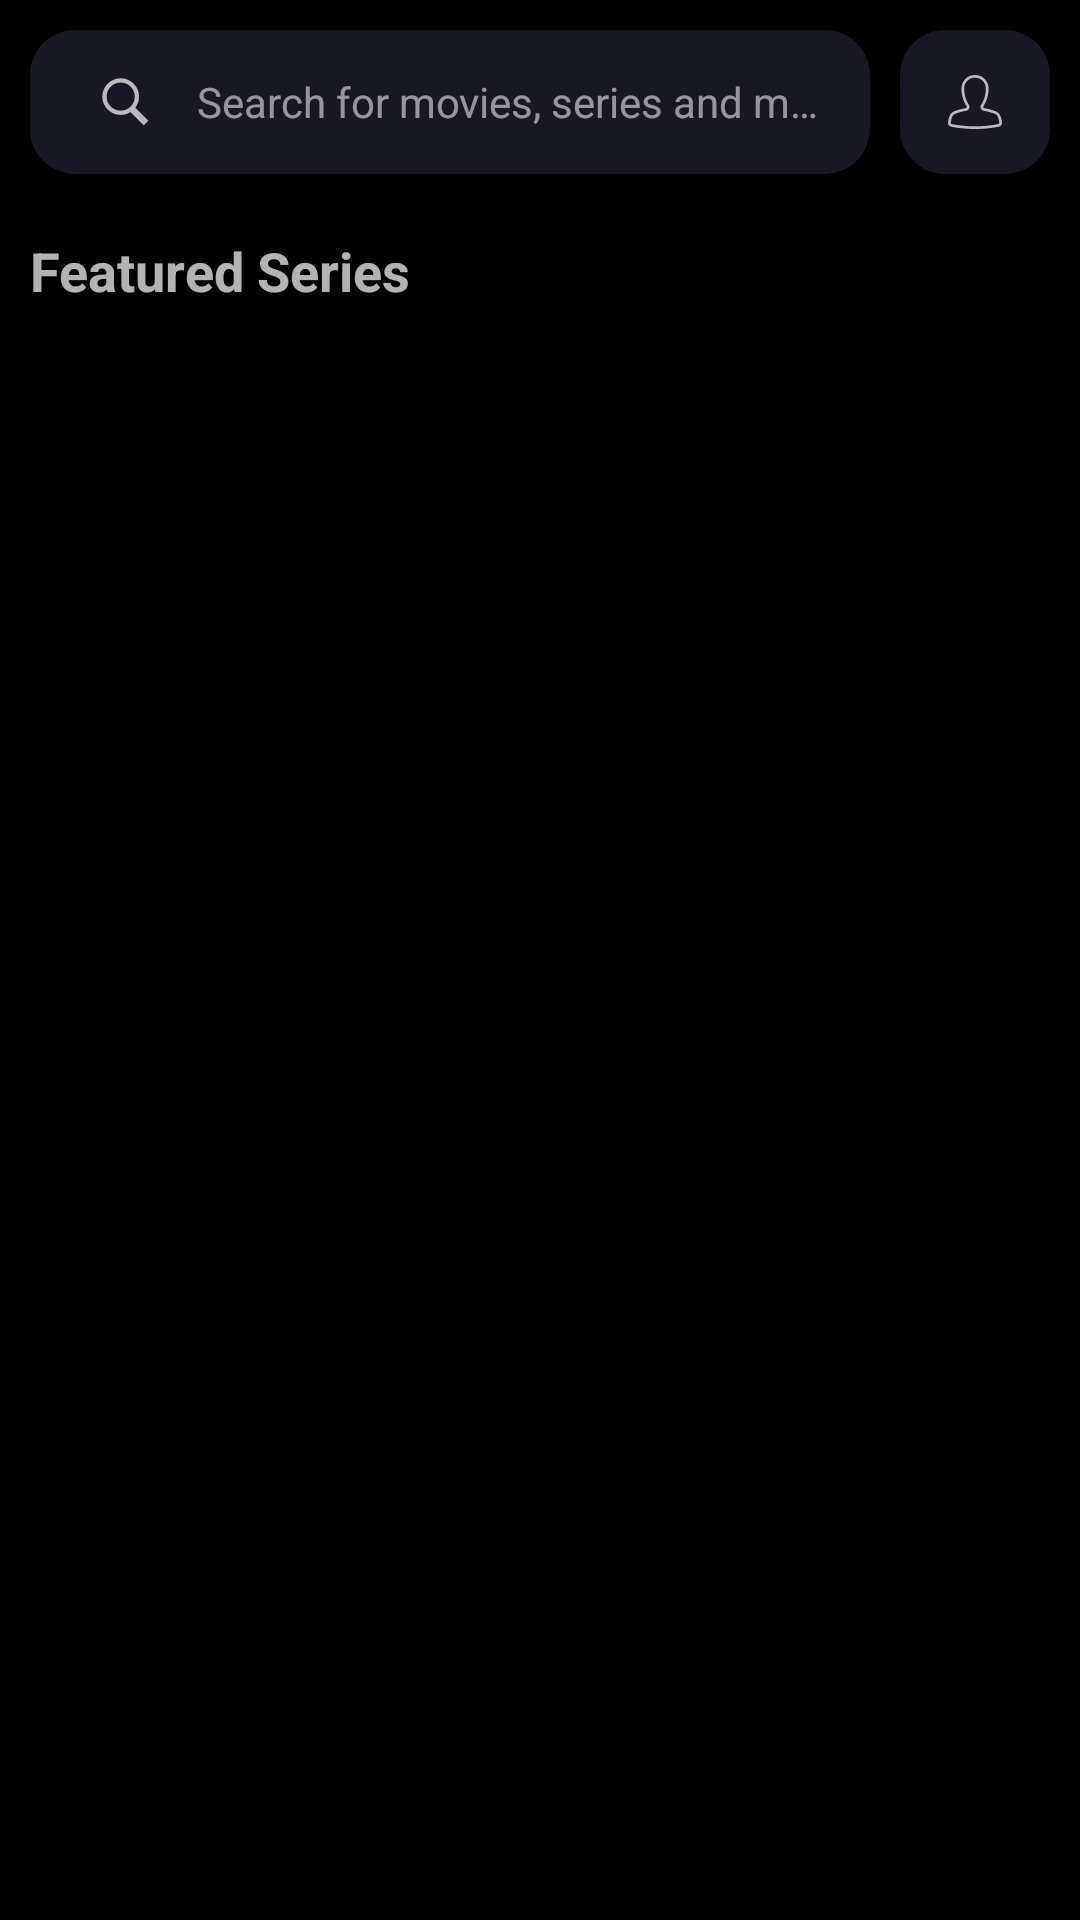

Icon bounding boxes for this 1080px x 1920px phone screenshot, format (x1, y1, x2, y2):
Profile icon: (900, 30, 1050, 174)
